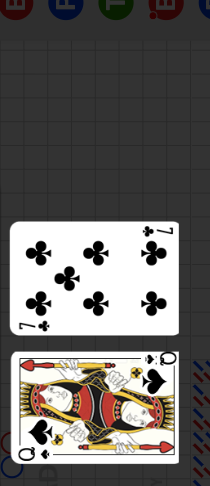7C: (140, 224, 175, 239), (17, 318, 52, 332)
